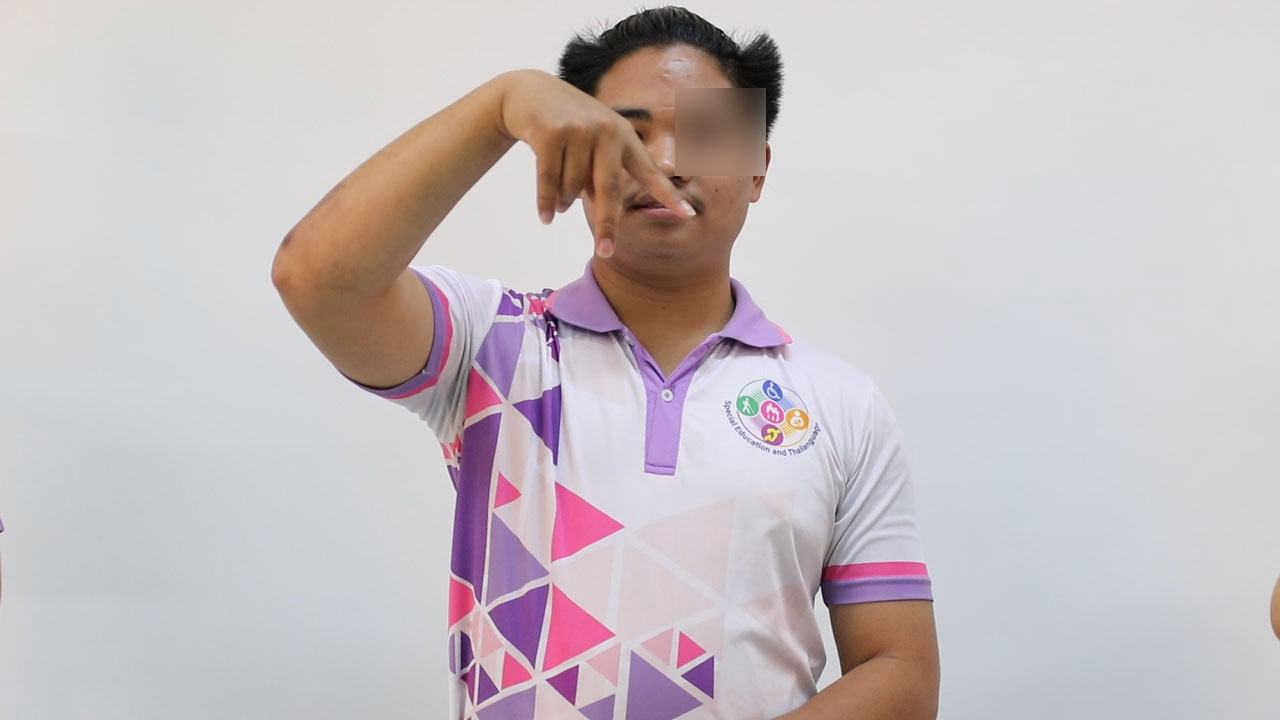por: (488, 55, 707, 266)
